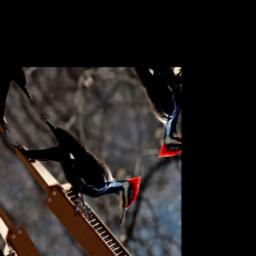Woodpecker: (10, 79, 154, 256)
